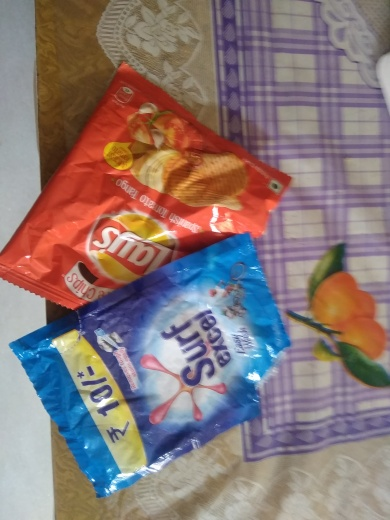lays: (1, 53, 291, 322)
surf: (4, 226, 289, 505)
